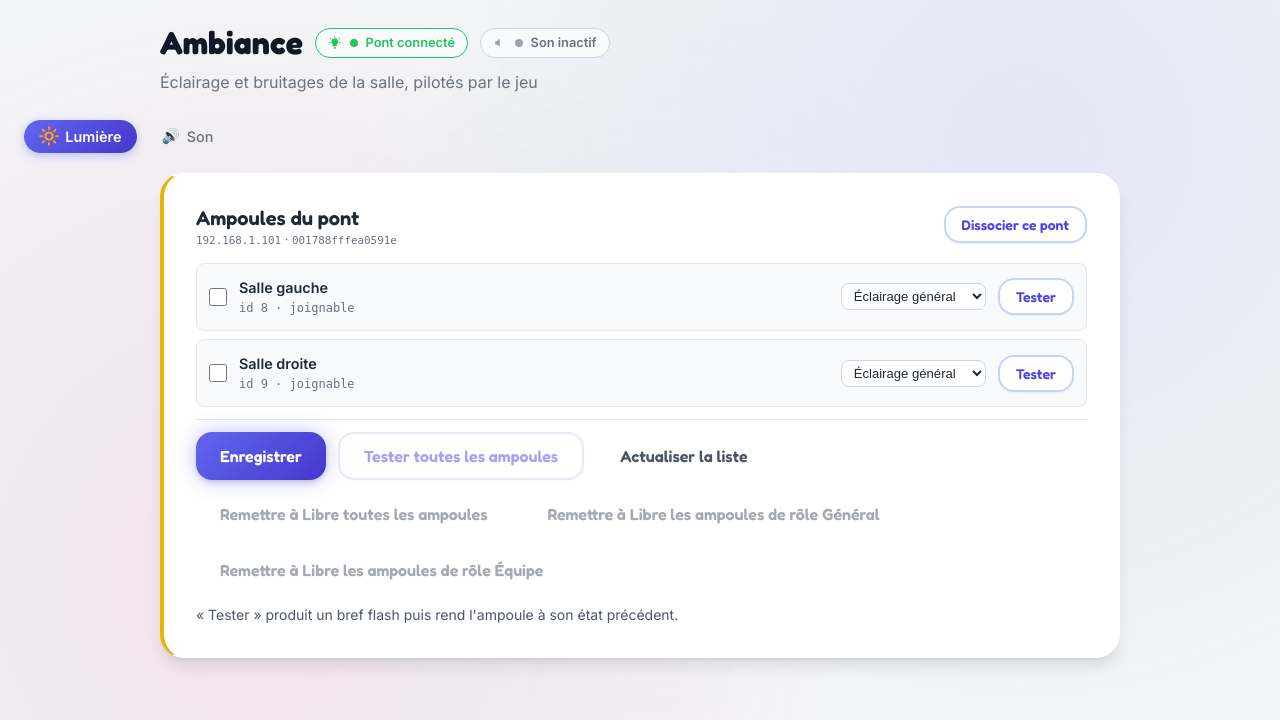
AmbiancePage — point 2 : plus d'affectation par défaut à l'association › cocher puis Enregistrer ne persiste QUE les ampoules explicitement cochées
Expected: the text "Salle gauche" is shown, [239,279,328,296]
What coordinates should you click on to do the following:
click the checkbox labelled "Salle gauche"
I would click on:
 (218, 297)
Its box is [209,288,227,306].
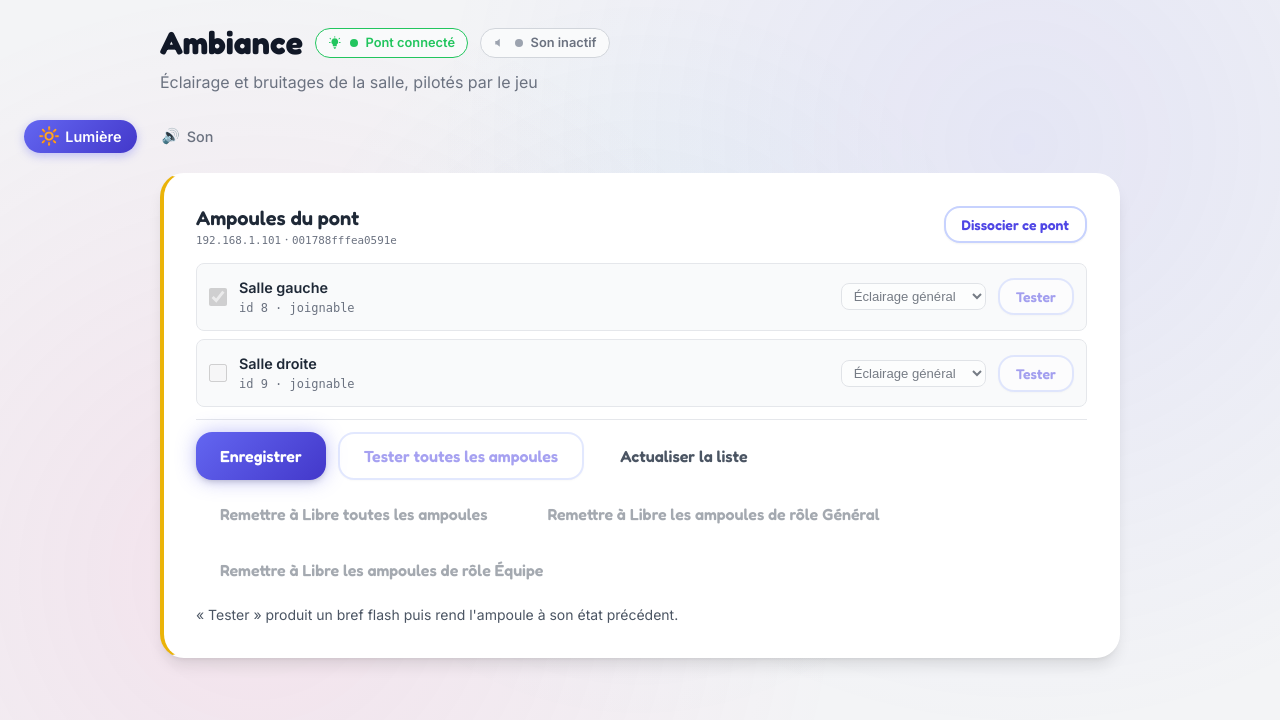
What coordinates should you click on to do the following:
click the button "Enregistrer"
I would click on:
 (261, 456)
Its box is [196,432,326,480].
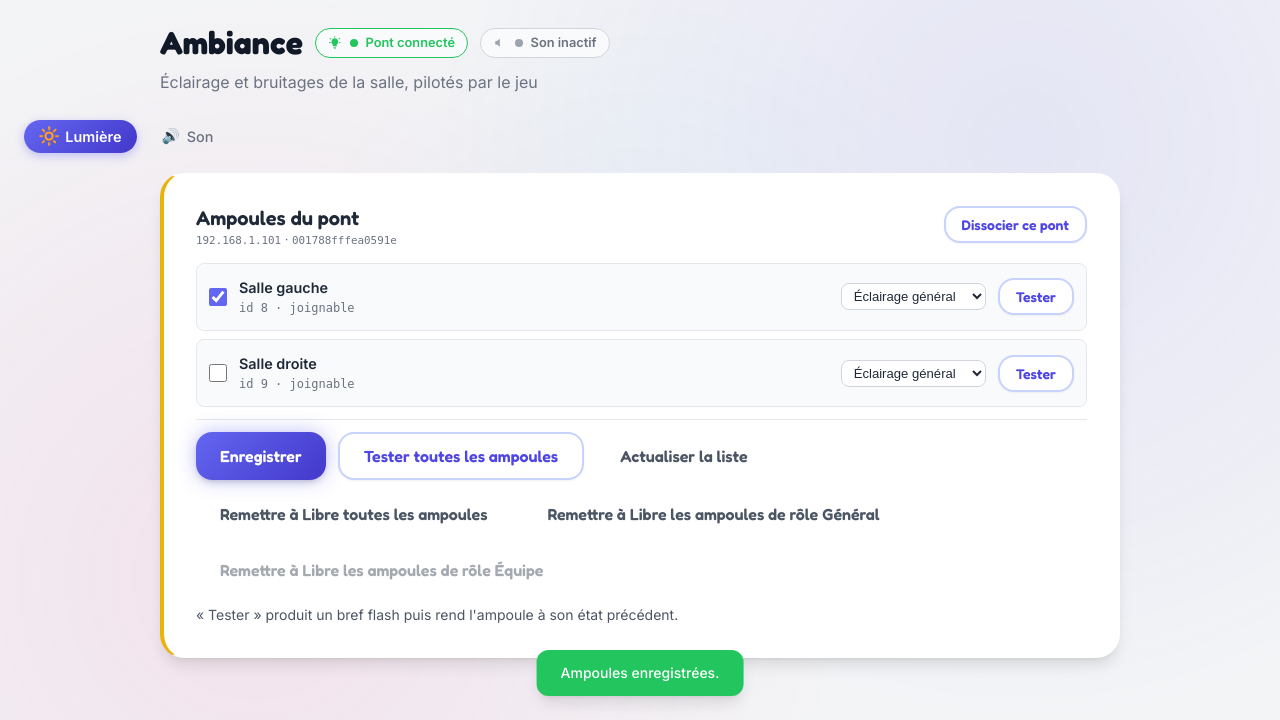
Now the text "Ampoules enregistrées." is shown, box [537,650,743,696]
